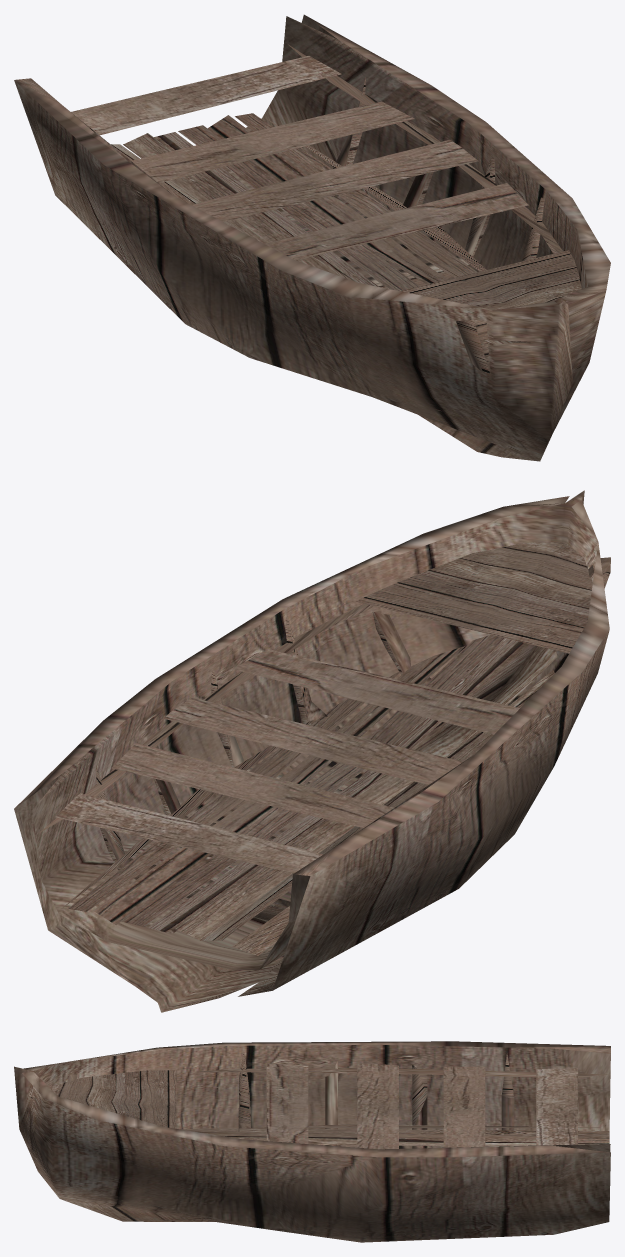
File: world-ship.glb
3 renders of one model, top to bottom at view 1: azimuth 30°, elevation 25°; view 2: azimuth 150°, elevation 25°; view 3: azimuth 270°, elevation 25°, orthographic. The views are drawn at different scales.
Visible parts, largest first — view 1: old-ship-hull; view 2: old-ship-hull; view 3: old-ship-hull.
Boxes of the visible parts, left/top/right/bottom form: old-ship-hull: left=14, top=14, right=610, bottom=461; old-ship-hull: left=14, top=490, right=610, bottom=1012; old-ship-hull: left=14, top=1041, right=610, bottom=1242.
Bounding box in the file's own units: 1.62 × 1.01 × 3.5.
2 materials, 2 textured.
